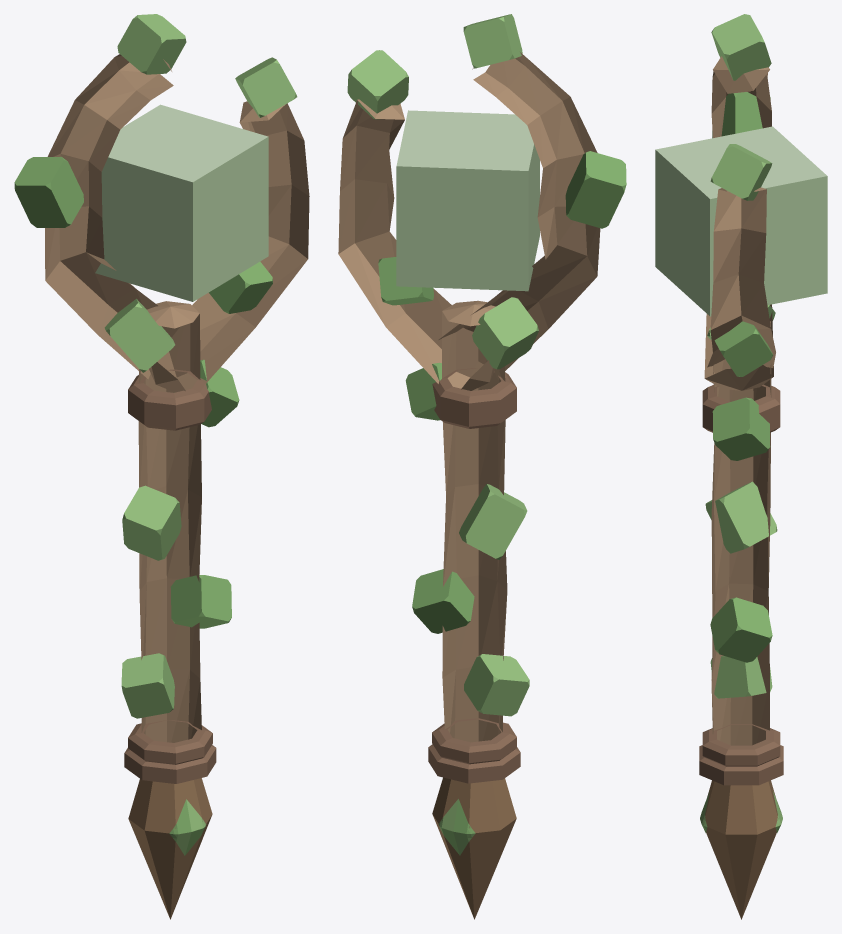
File: branch_staff_roblox.glb
3 renders of one model, left to right at view 1: azimuth 30°, elevation 25°; view 2: azimuth 150°, elevation 25°; view 3: azimuth 270°, elevation 25°, orthographic. The views are drawn at different scales.
Visible parts, largest first — view 1: Staff, Stone, Leaves, Gems; view 2: Staff, Stone, Leaves, Gems; view 3: Staff, Stone, Leaves.
Part boxes in pixels (<box>): Staff: <box>45,54,309,919</box>; Stone: <box>95,104,268,301</box>; Leaves: <box>14,14,297,718</box>; Gems: <box>169,799,206,855</box>; Staff: <box>338,52,600,919</box>; Stone: <box>396,110,539,291</box>; Leaves: <box>347,14,626,716</box>; Gems: <box>438,799,475,855</box>; Staff: <box>699,56,783,919</box>; Stone: <box>655,126,827,316</box>; Leaves: <box>705,14,777,698</box>.
Bounding box in the file's own units: 0.4556 × 1.4 × 0.2459.
